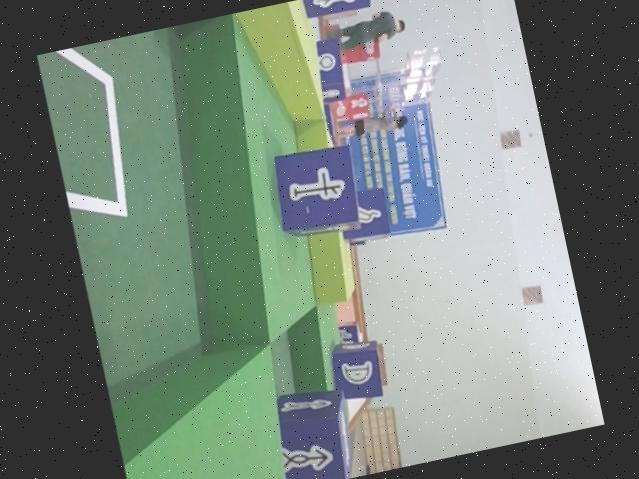R2 Real Blue: (265, 143, 367, 248), (264, 382, 359, 479), (325, 337, 387, 405), (335, 185, 395, 245), (308, 37, 348, 104), (298, 0, 385, 21)
